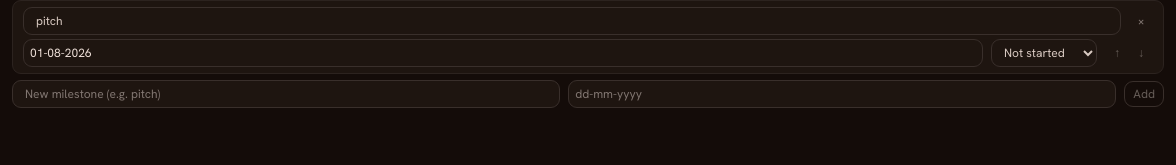
Test: a date the backend refuses › rolls the field back and says so
Replace the text in the dropdown named "Milestone deadline" with "15-09-2026" at coordinates (503, 53), box [23,39,983,67]
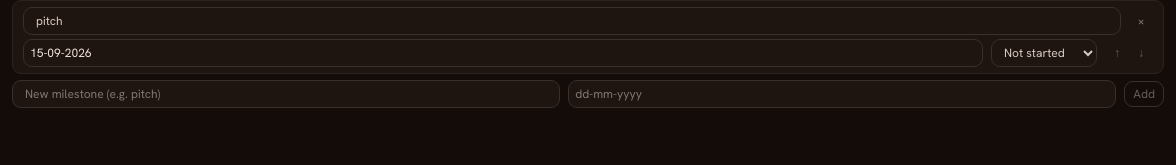
Leave the dropdown named "Milestone deadline", box [23,39,983,67]
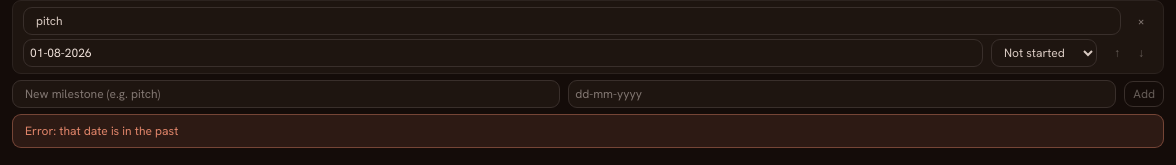
Check: the message "Error: that date is in the past" is shown, box [12,114,1164,148]
Check: the message shows "that date is in the past", box [25,123,178,139]
Check: the dropdown named "Milestone deadline" holds "01-08-2026", box [23,39,983,67]
